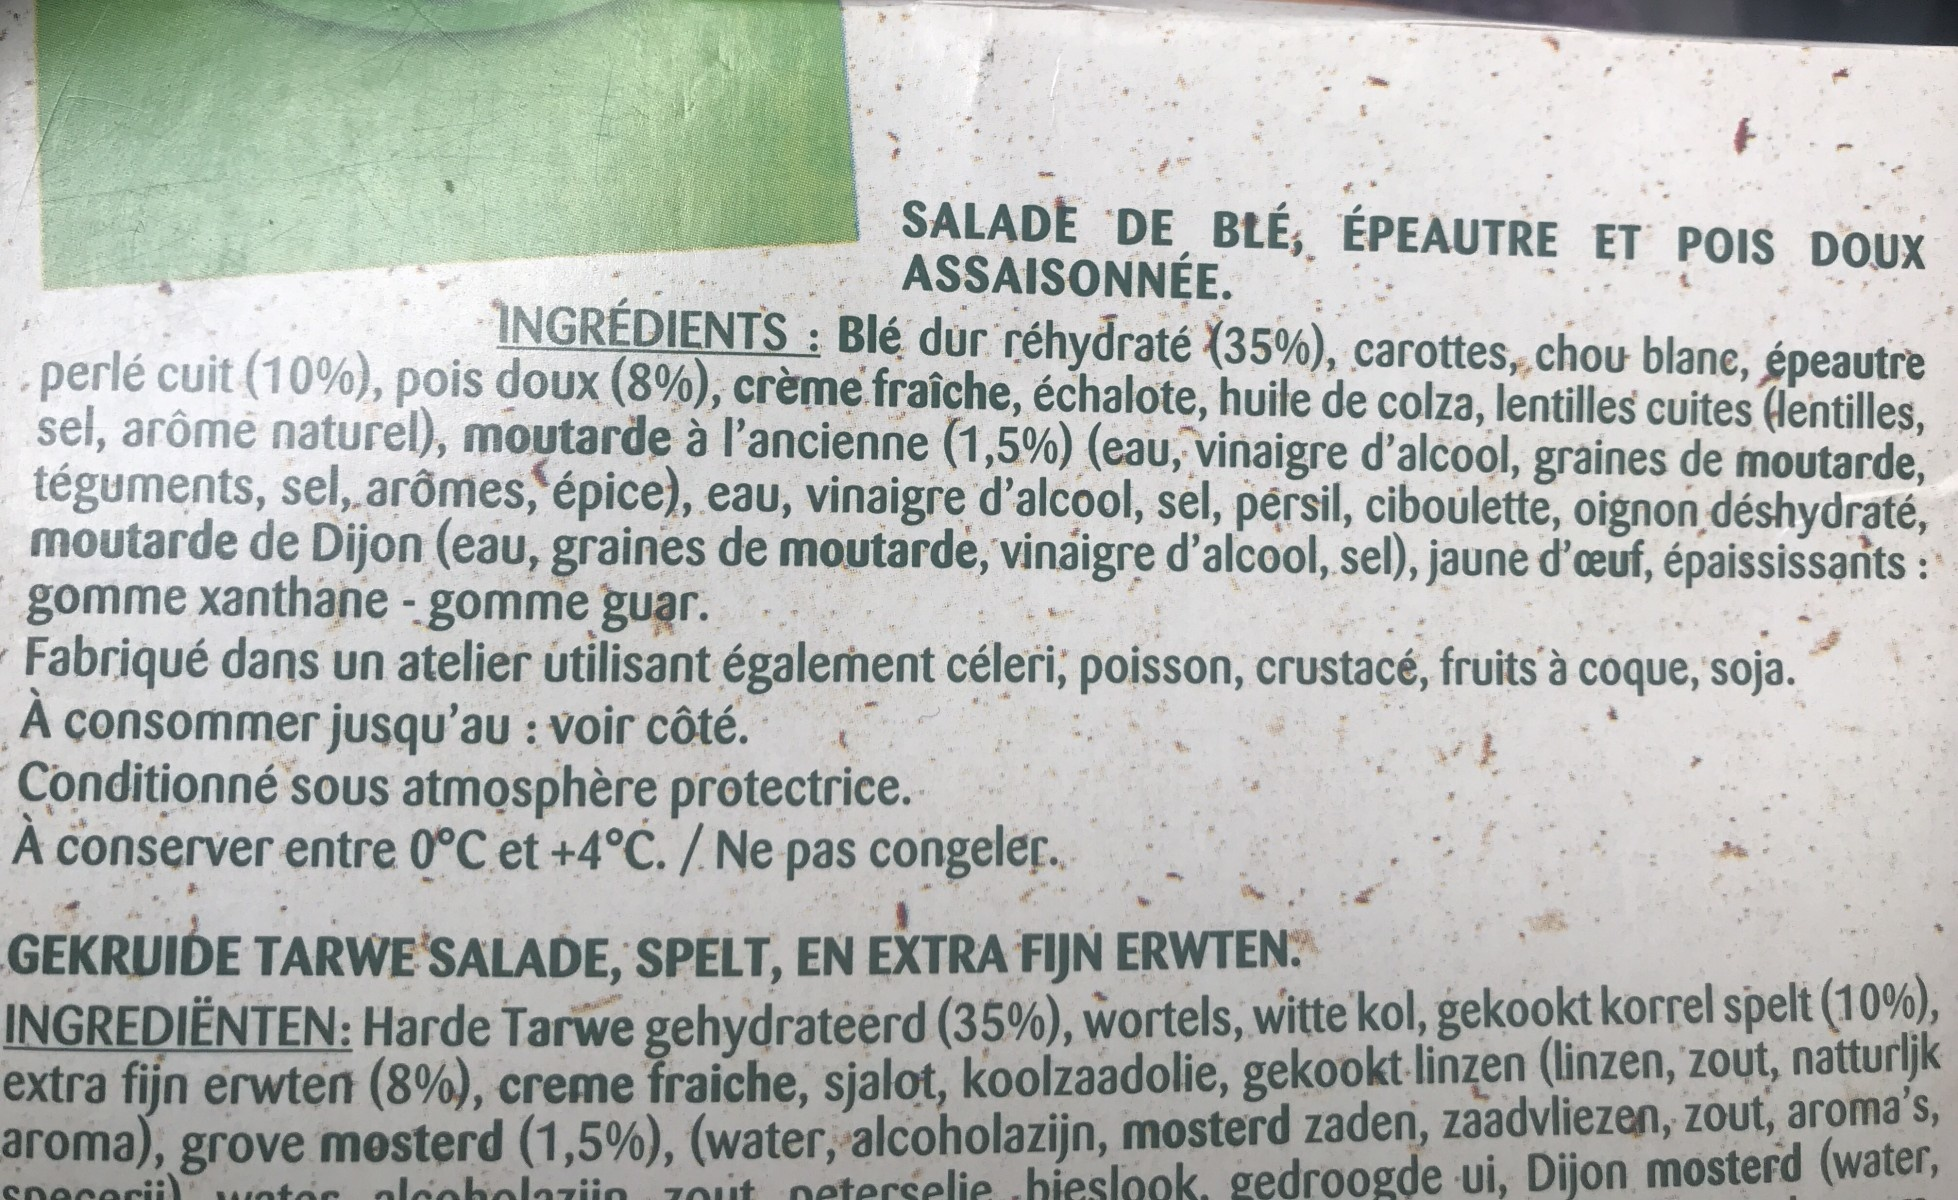ingredients: (13, 288, 1915, 635), (1, 971, 1954, 1196)
